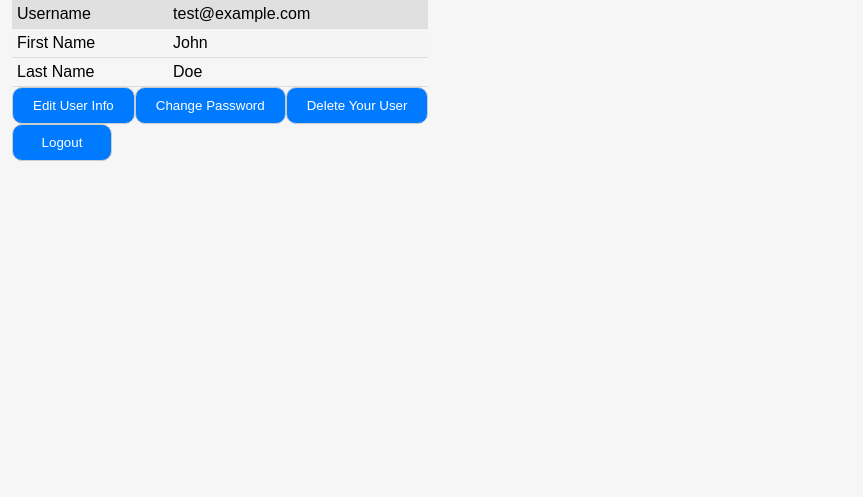
Test: Profile component › opens and closes Delete User popup
This screenshot has width=863, height=497.
Expected: the cell with test id "email" is shown, [168, 0, 428, 28]
Click the button "Delete Your User".
click(357, 106)  # box [286, 87, 428, 124]
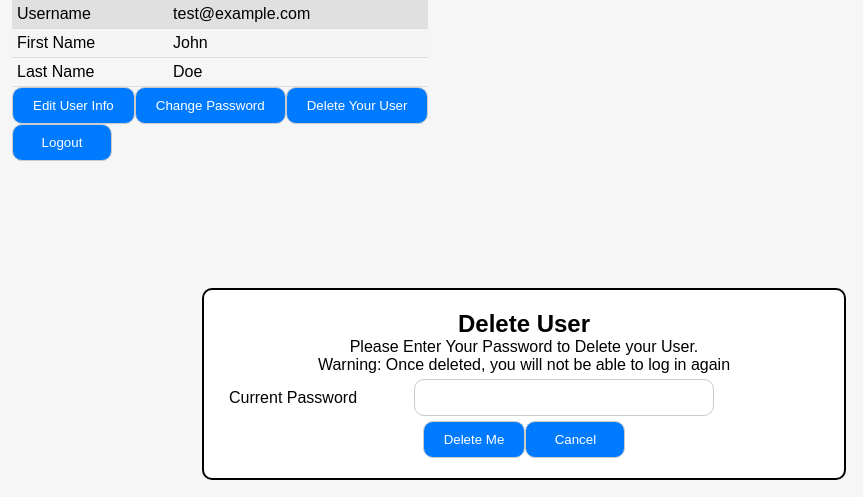
Result: the button with test id "deleteBtn" is shown at [423, 421, 525, 458]
Click the button with test id "cancelBtn".
click(575, 440)  # box [525, 421, 625, 458]
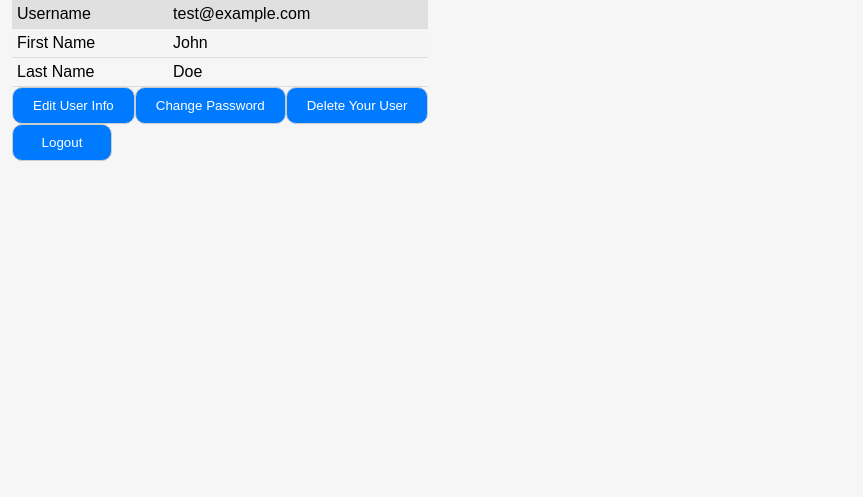
Result: the button with test id "deleteBtn" is gone
